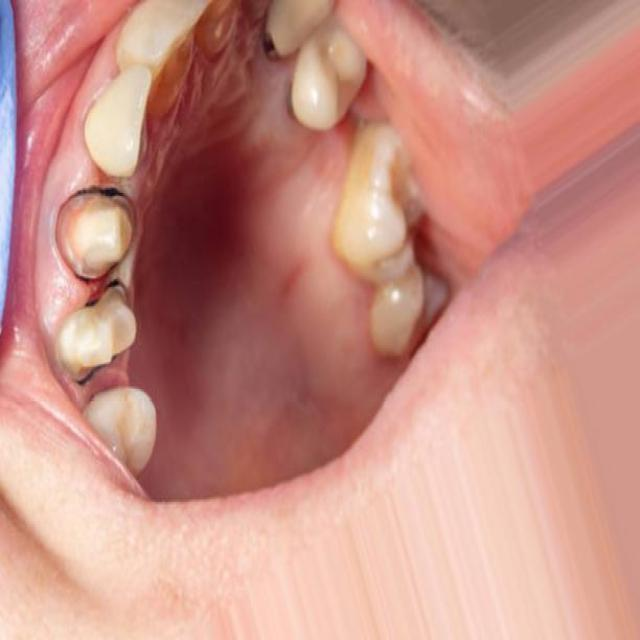caries: (49, 190, 140, 282), (52, 290, 141, 383), (254, 0, 298, 86)
